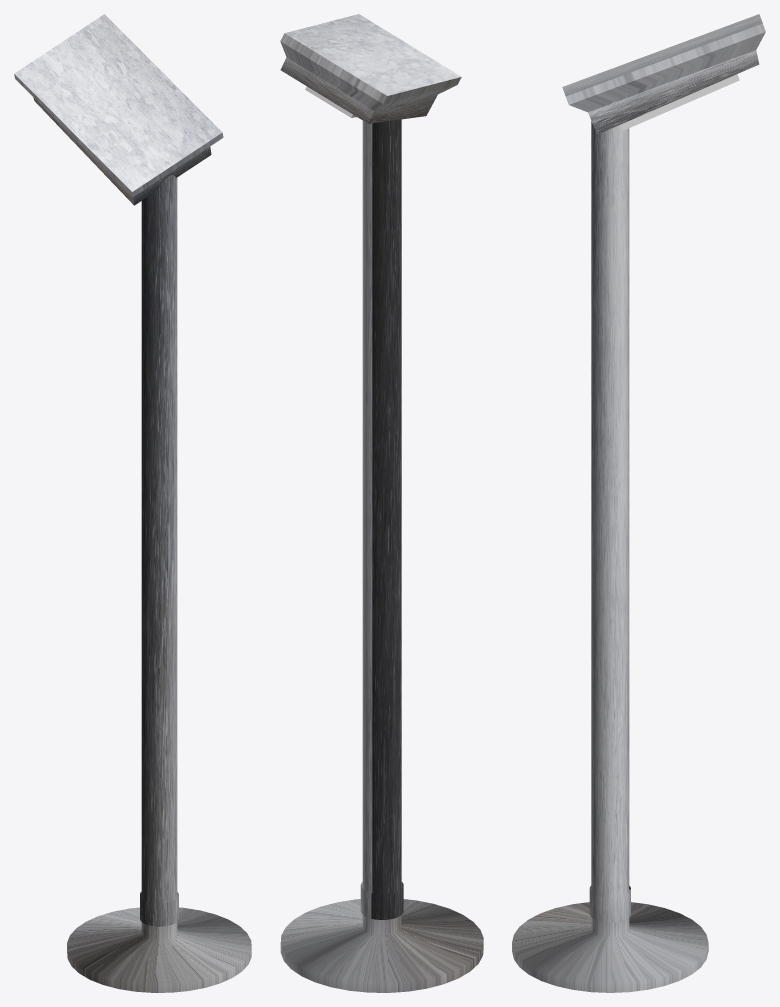
File: Streetlamp3.fbx
The picture shows the model from 3 angles, left to right: view 1: azimuth 30°, elevation 25°; view 2: azimuth 150°, elevation 25°; view 3: azimuth 270°, elevation 25°; orthographic projection. The views are drawn at different scales.
Parts seen in each view (by area): view 1: Streetlamp3; view 2: Streetlamp3; view 3: Streetlamp3.
Boxes of the visible parts, left/top/right/bottom form: Streetlamp3: left=14, top=14, right=251, bottom=992; Streetlamp3: left=280, top=14, right=483, bottom=992; Streetlamp3: left=512, top=14, right=765, bottom=992.
Size of the model in its own units: 107 by 563 by 138.
2 materials, 1 textured.
